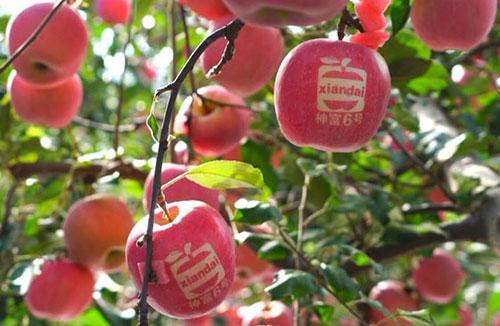apple: (128, 200, 247, 320), (271, 39, 392, 155), (6, 2, 88, 88), (201, 16, 282, 97), (63, 194, 135, 274), (177, 86, 252, 158), (409, 1, 498, 54), (25, 255, 97, 320), (9, 73, 85, 128), (412, 251, 466, 304), (365, 280, 418, 319)
